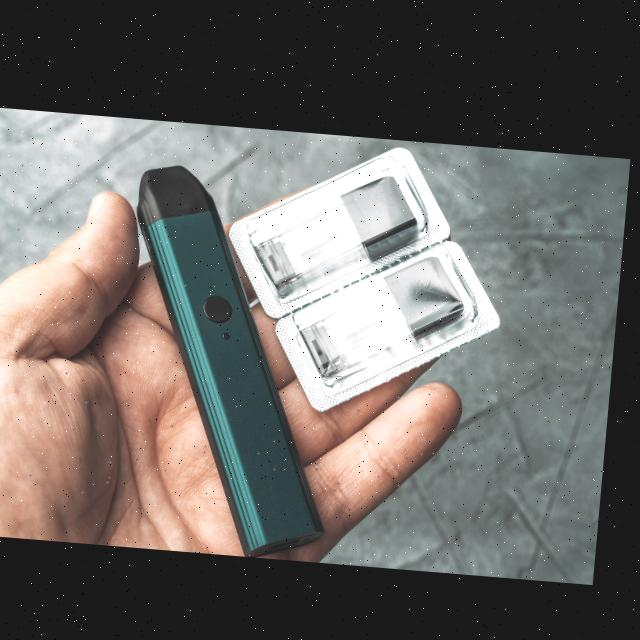vape: (117, 159, 360, 555)
